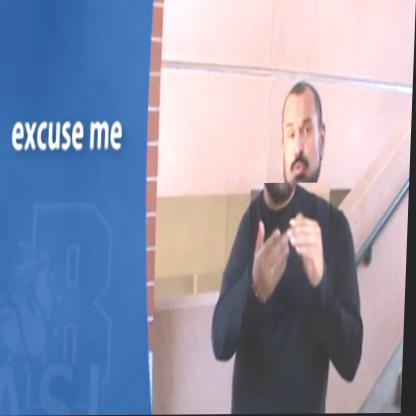ExcuseMe: (249, 183, 332, 313)
